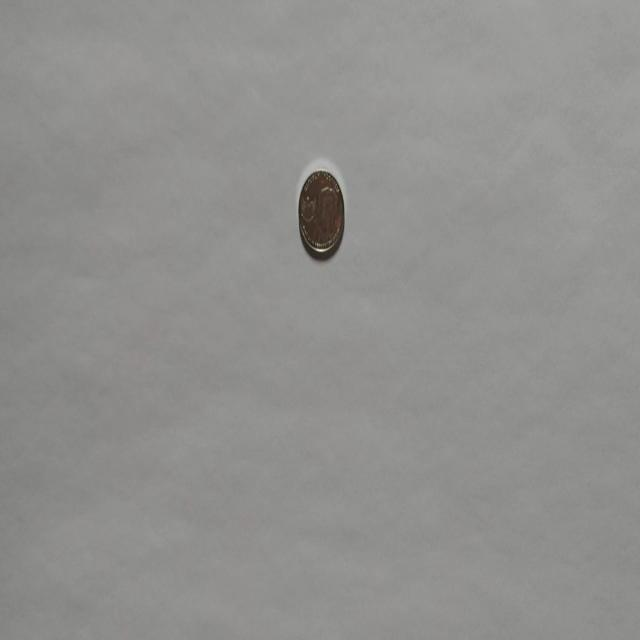seratus rupiah: (297, 167, 345, 257)
